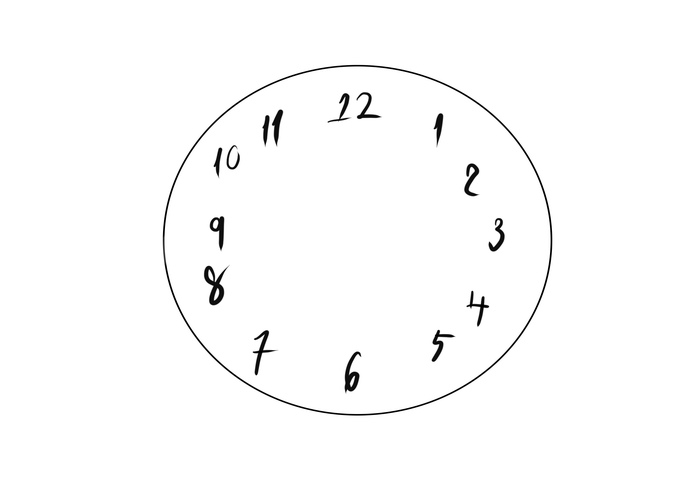eight: (200, 265, 224, 299)
eleven: (258, 108, 285, 152)
five: (425, 329, 456, 366)
four: (462, 290, 495, 329)
nine: (200, 206, 233, 255)
one: (427, 104, 457, 157)
seven: (249, 326, 278, 371)
six: (342, 348, 363, 392)
ten: (206, 138, 245, 181)
three: (486, 210, 509, 256)
twelve: (323, 83, 383, 128)
two: (455, 156, 484, 199)
